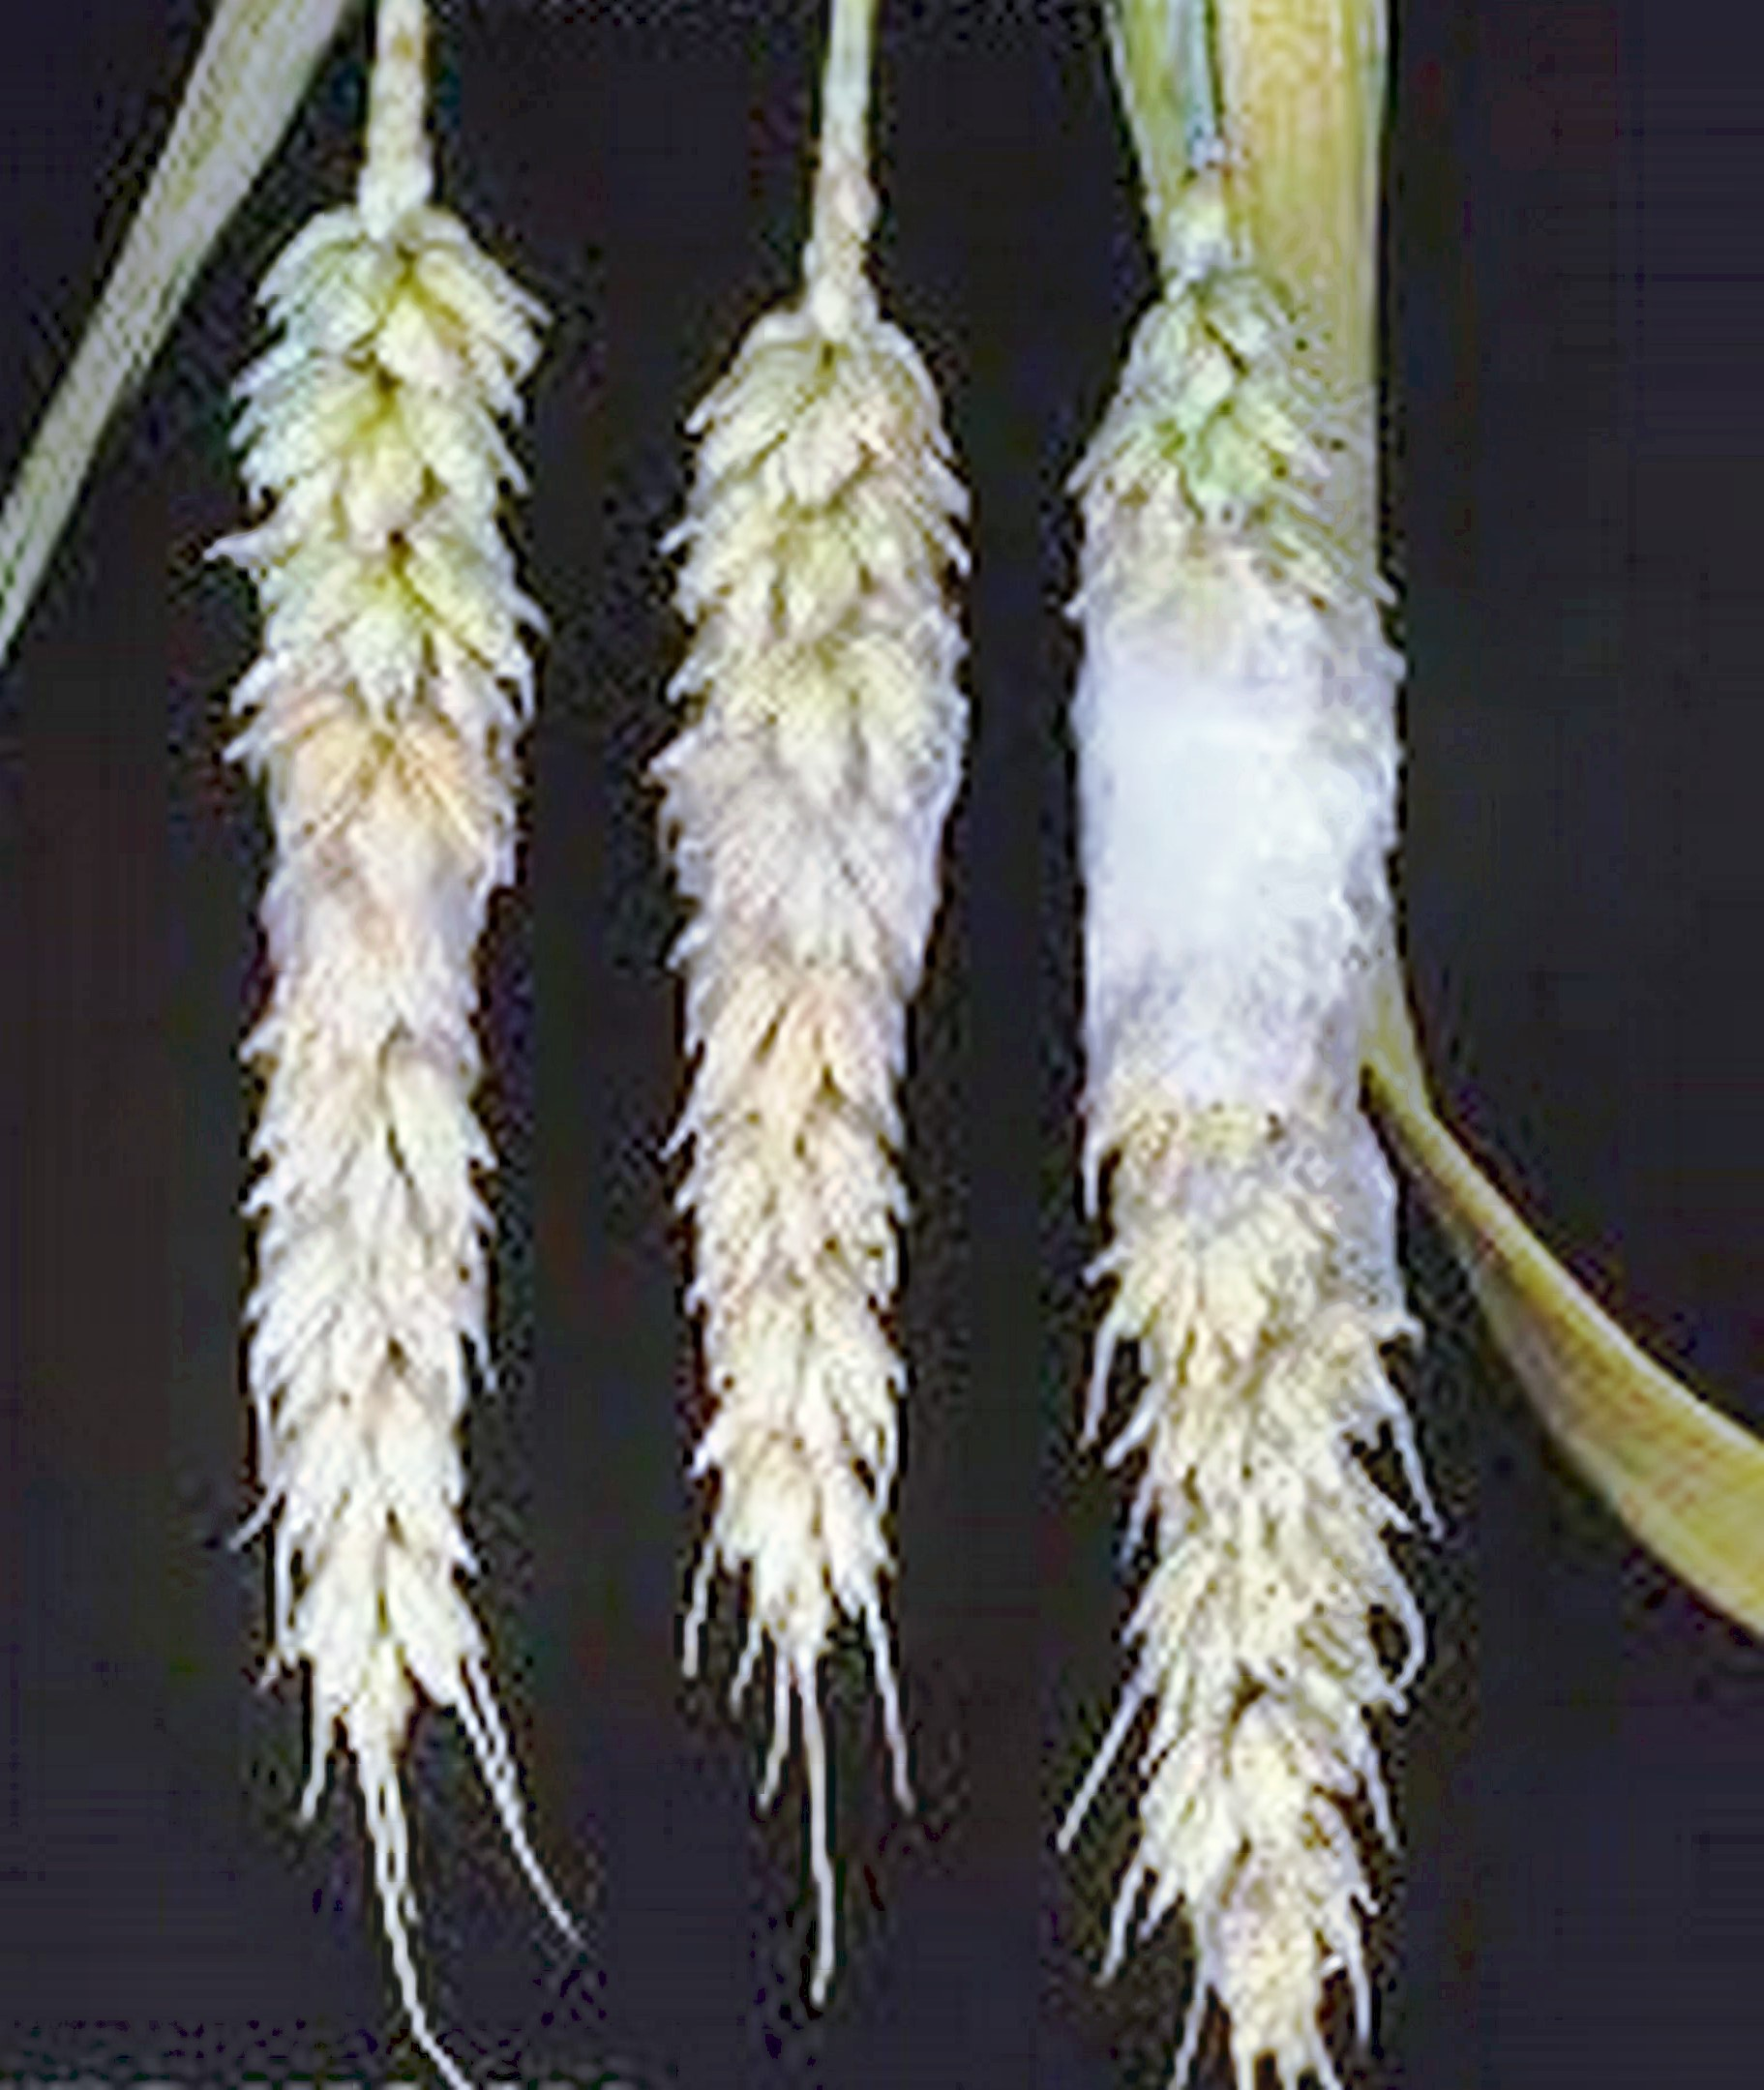Wheat scab: (175, 124, 579, 1768)
